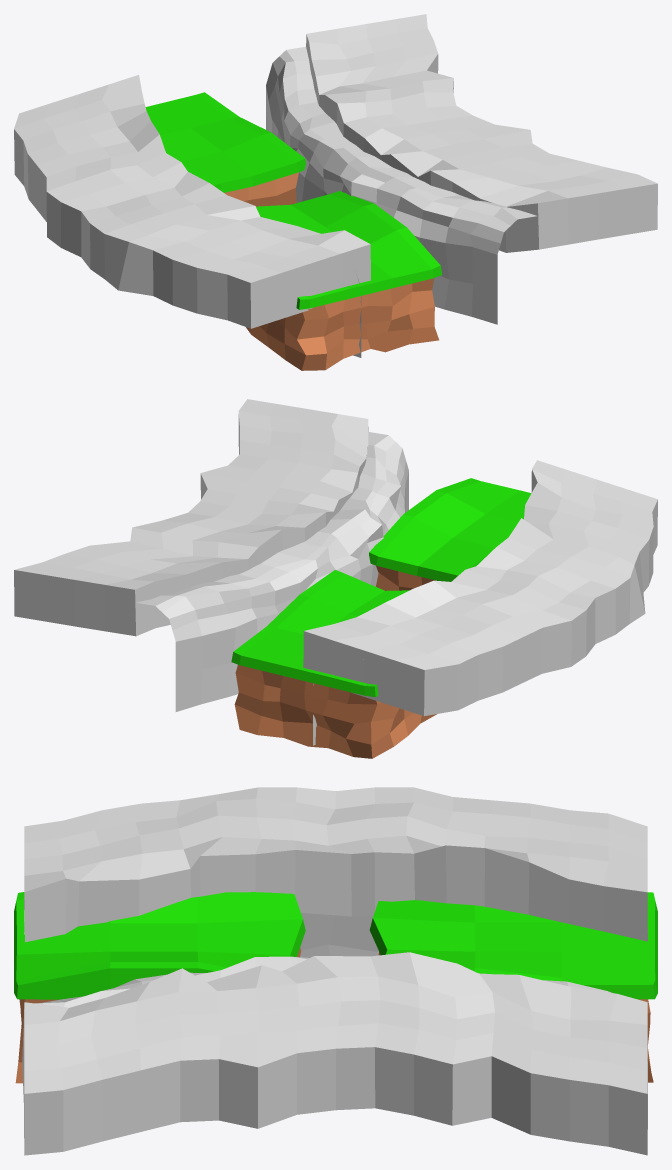
Rendered from The Endgame Levels Final1.fbx.
The picture shows the model from 3 angles, top to bottom: view 1: azimuth 30°, elevation 25°; view 2: azimuth 150°, elevation 25°; view 3: azimuth 270°, elevation 25°; orthographic projection. The views are drawn at different scales.
Visible parts, largest first — view 1: Plane.009, Plane.010, Plane.006, Plane.004; view 2: Plane.009, Plane.010, Plane.006, Plane.004; view 3: Plane.009, Plane.006, Plane.010, Plane.004.
Boxes of the visible parts, x1,y1,x2,y2 form: Plane.009: (14, 14, 657, 328); Plane.010: (115, 46, 536, 357); Plane.006: (145, 92, 442, 309); Plane.004: (224, 172, 438, 370); Plane.009: (14, 399, 657, 716); Plane.010: (136, 432, 414, 745); Plane.006: (231, 478, 531, 697); Plane.004: (234, 565, 437, 758); Plane.009: (22, 787, 647, 1155); Plane.006: (14, 892, 657, 999); Plane.010: (24, 853, 611, 1007); Plane.004: (15, 947, 653, 1083).
Size of the model in its own units: 699 by 181 by 620.
